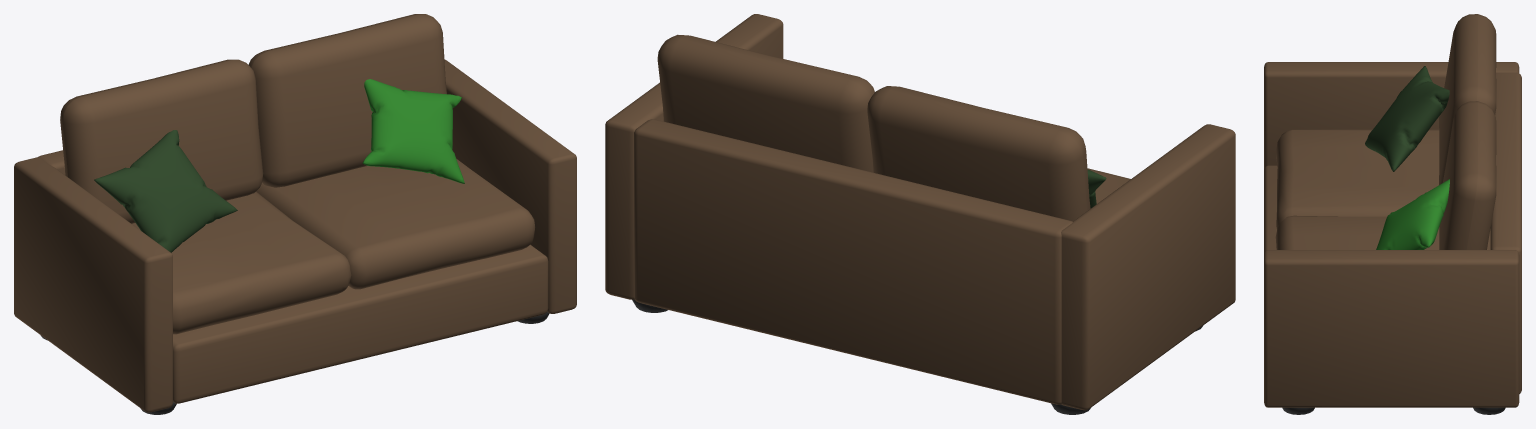
Rendered from generic couch.fbx.
3 renders of one model, left to right at view 1: azimuth 30°, elevation 25°; view 2: azimuth 150°, elevation 25°; view 3: azimuth 270°, elevation 25°, orthographic. The views are drawn at different scales.
Parts seen in each view (by area): view 1: Cube; view 2: Cube; view 3: Cube.
Boxes of the visible parts, x1,y1,x2,y2 form: Cube: (14,14,576,414); Cube: (605,14,1235,414); Cube: (1264,14,1521,414).
Bounding box in the file's own units: 228 × 120 × 123.
